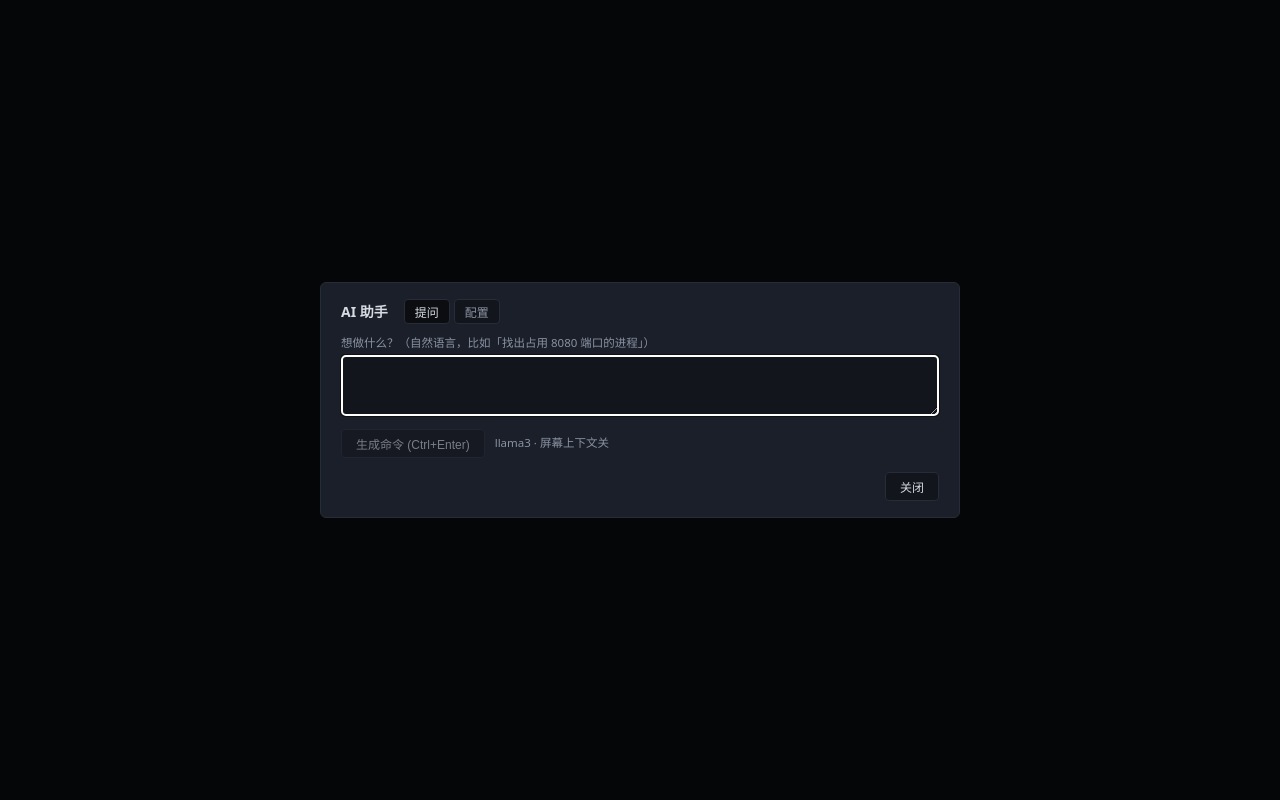
it: 失败路径 › ai_suggest_command 抛错时显示错误，不留一个转圈的按钮
The width and height of the screenshot is (1280, 800).
Type "随便问问" into the text box with test id "ai-prompt" at (640, 386), box top-left (341, 355), bottom-right (939, 416)
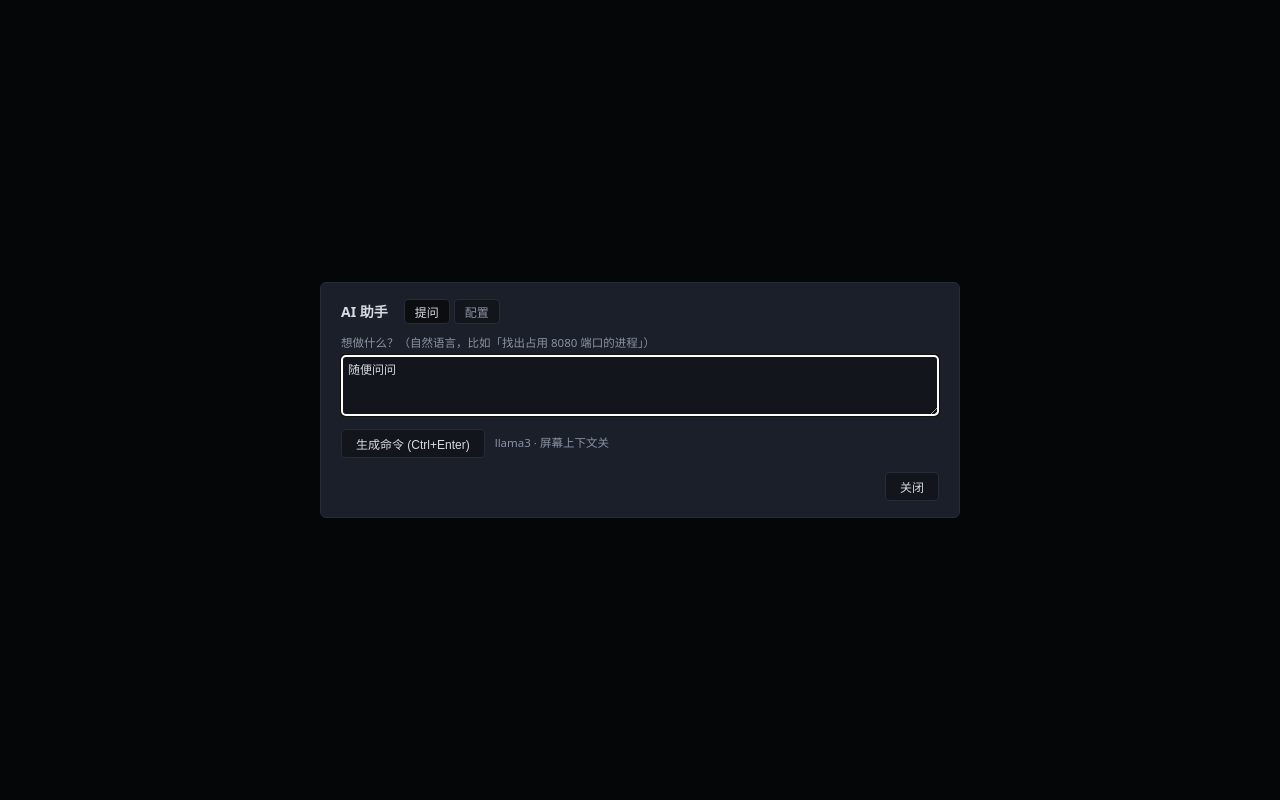
Click the button with test id "ai-ask" at (413, 443), box top-left (341, 429), bottom-right (485, 458)
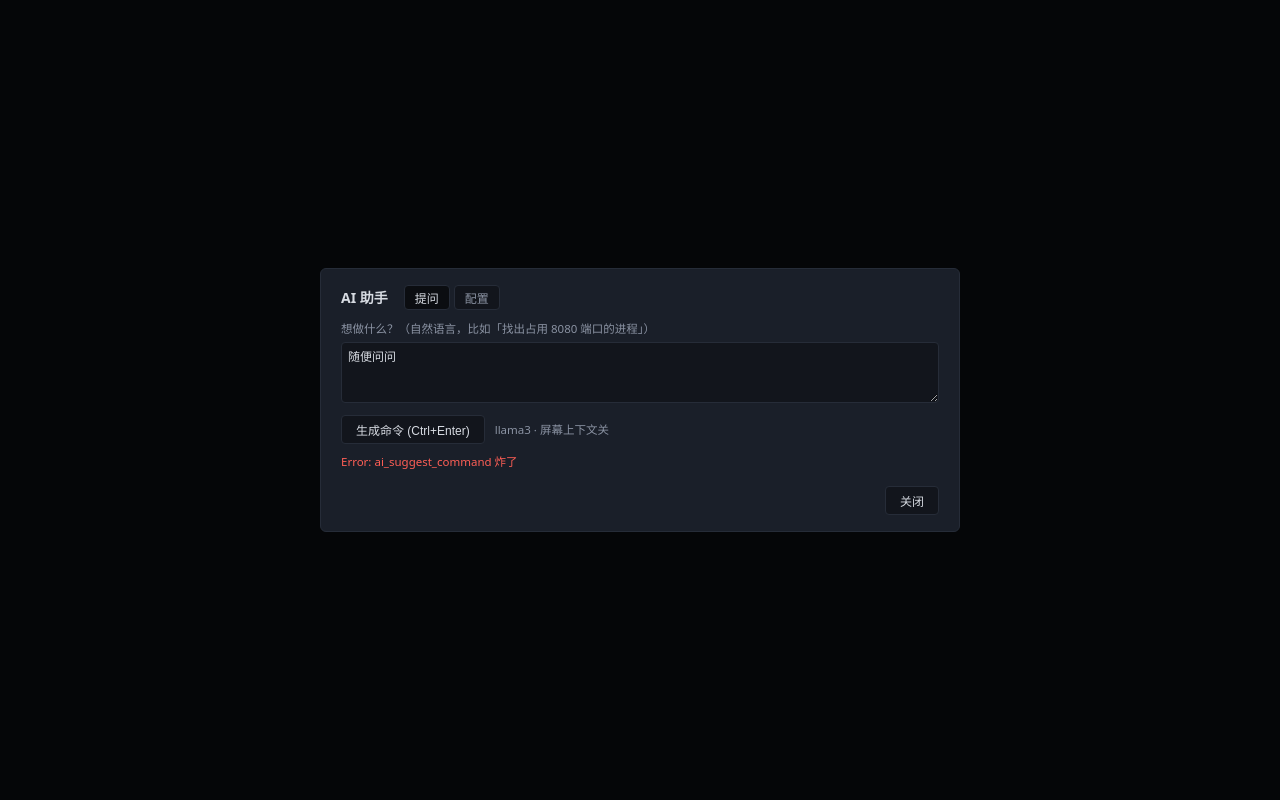
Result: the button with test id "ai-ask" is enabled at top-left (341, 416), bottom-right (485, 444)
Result: the text "Error: ai_suggest_command 炸了" is shown at top-left (341, 454), bottom-right (518, 469)
